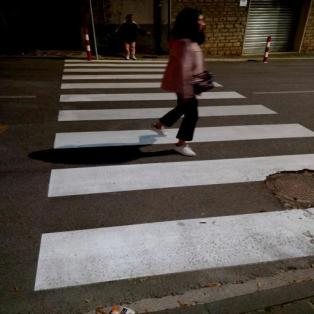Paso de Cebra: (22, 149, 313, 298), (43, 89, 283, 126)
